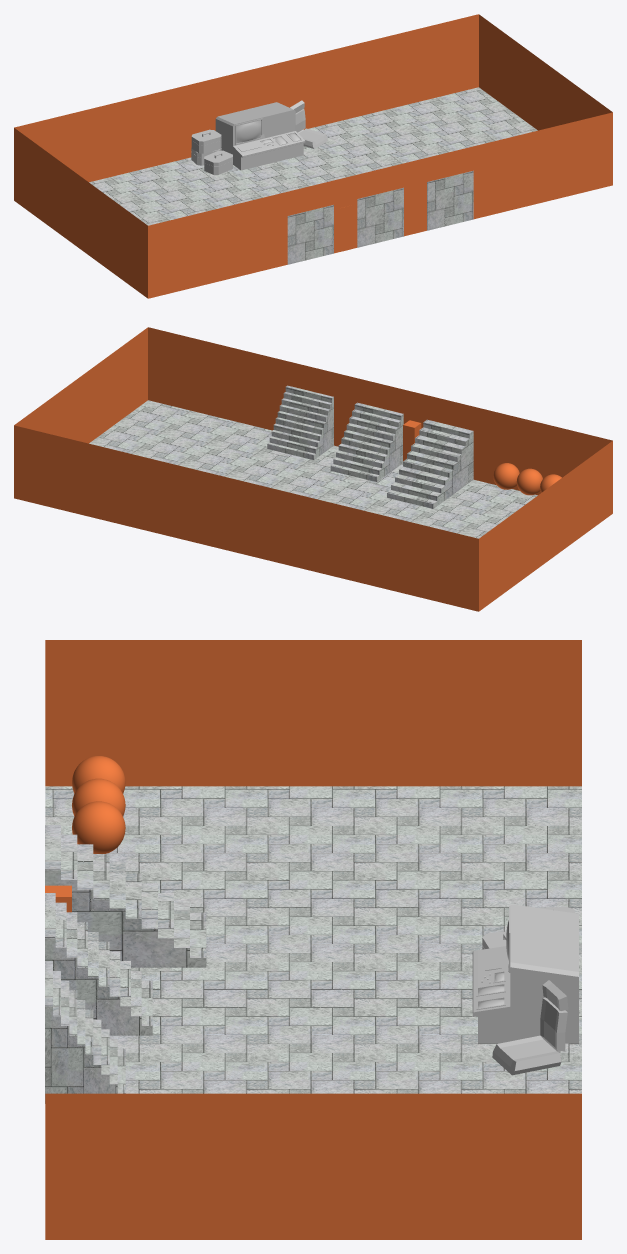
File: dev_map.fbx
3 views of the same model, one above another, from view 1: azimuth 30°, elevation 25°; view 2: azimuth 150°, elevation 25°; view 3: azimuth 270°, elevation 25° (orthographic). The views are drawn at different scales.
Visible parts, largest first — view 1: Cube, Cube.004, Cube.001, Cube.002, Cube.003, Chair, Cargo.003, Cargo.001, PlayerRef; view 2: Cube, Cube.003, Cube.001, Cube.002, Sphere, Sphere.002, PlayerRef; view 3: Cube, Cube.003, Cube.004, Cube.001, Cube.002, Chair, Sphere.002, Sphere, Sphere.001.
Boxes of the visible parts, x1=… form: Cube: x1=14, y1=14, x2=612, y2=298; Cube.004: x1=215, y1=102, x2=305, y2=170; Cube.001: x1=357, y1=187, x2=403, y2=247; Cube.002: x1=427, y1=170, x2=473, y2=230; Cube.003: x1=287, y1=205, x2=333, y2=264; Chair: x1=290, y1=100, x2=327, y2=148; Cargo.003: x1=191, y1=129, x2=221, y2=153; Cargo.001: x1=204, y1=150, x2=232, y2=174; PlayerRef: x1=340, y1=205, x2=351, y2=251; Cube: x1=14, y1=327, x2=612, y2=611; Cube.003: x1=387, y1=419, x2=473, y2=508; Cube.001: x1=330, y1=402, x2=403, y2=481; Cube.002: x1=267, y1=385, x2=333, y2=459; Sphere: x1=516, y1=468, x2=542, y2=495; Sphere.002: x1=493, y1=463, x2=519, y2=489; PlayerRef: x1=403, y1=420, x2=421, y2=461; Cube: x1=45, y1=640, x2=581, y2=1239; Cube.003: x1=45, y1=825, x2=206, y2=967; Cube.004: x1=472, y1=904, x2=578, y2=1043; Cube.001: x1=45, y1=893, x2=152, y2=1035; Cube.002: x1=45, y1=961, x2=125, y2=1103; Chair: x1=492, y1=980, x2=568, y2=1075; Sphere.002: x1=72, y1=801, x2=125, y2=853; Sphere: x1=72, y1=778, x2=125, y2=816; Sphere.001: x1=72, y1=756, x2=125, y2=793.
Bounding box in the file's own units: 1998 × 300 × 999.
